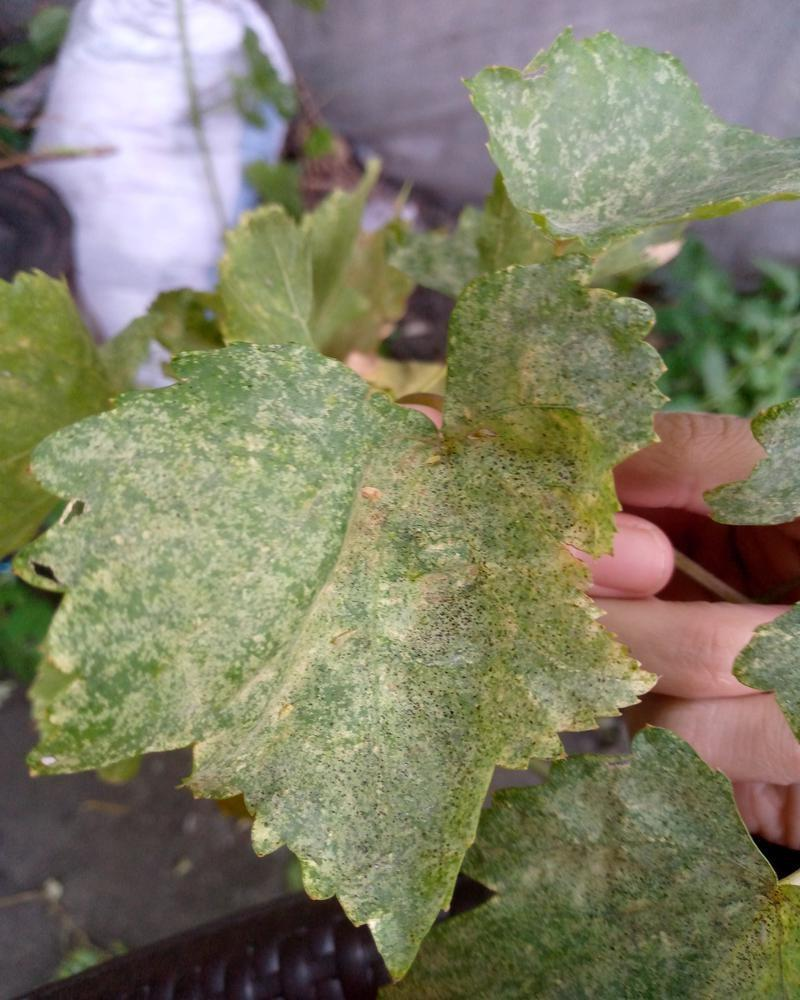Powdery-Mildew: (40, 486, 467, 806), (402, 301, 633, 542), (96, 405, 305, 602), (259, 770, 459, 966), (517, 555, 651, 764), (396, 590, 529, 756)
